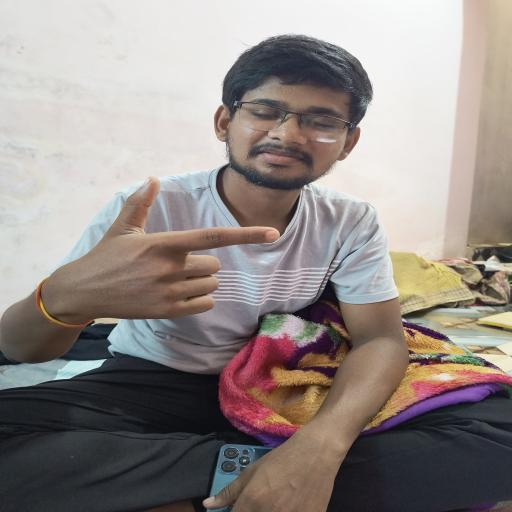OK: (36, 173, 294, 335)
